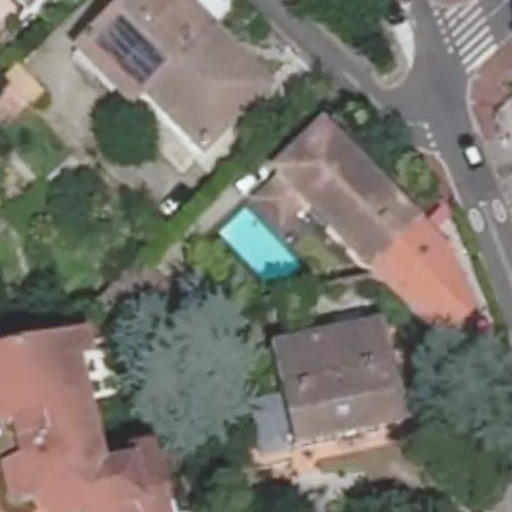pool: (215, 233, 296, 259)
